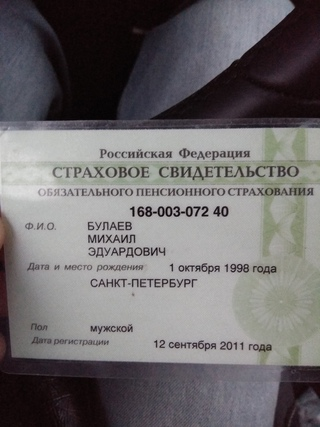text: (152, 337, 279, 354), (121, 200, 234, 218), (167, 261, 283, 278), (88, 276, 203, 289), (81, 244, 173, 259), (83, 216, 140, 233), (86, 232, 148, 245), (88, 323, 137, 333)
